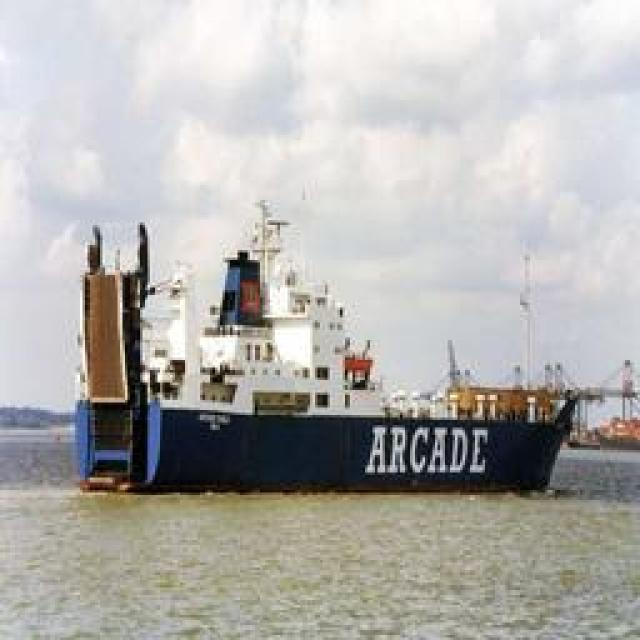CIV_Ship: (76, 190, 546, 495)
